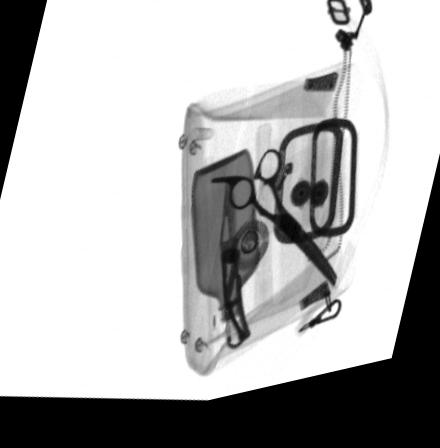Knife: (217, 186, 250, 360)
Scissors: (207, 157, 336, 301)
